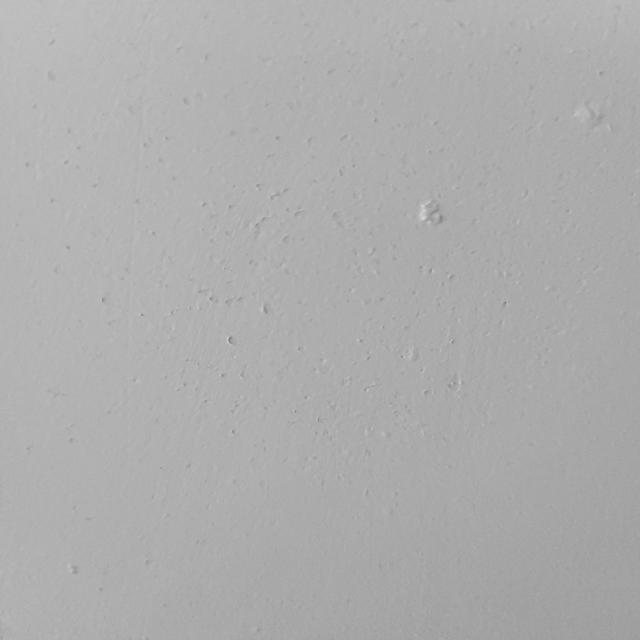rough and patchy surface: (221, 28, 490, 350)
